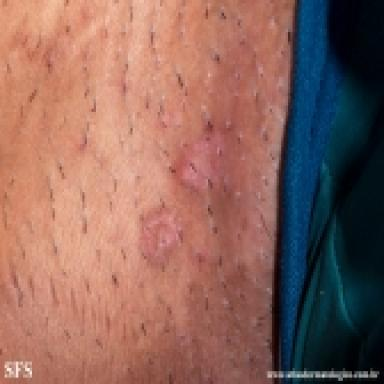Porokeratosis: (177, 131, 224, 191), (140, 207, 181, 264)
